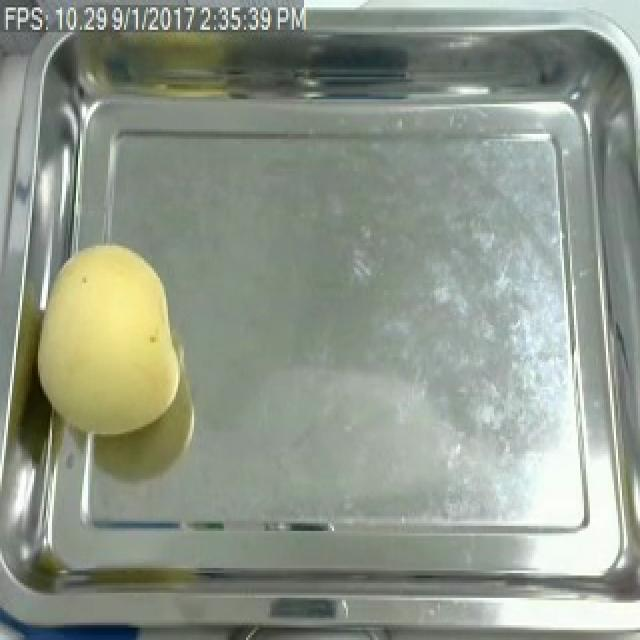Fruit: (22, 230, 192, 447)
